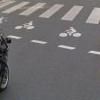Crosswalk: (10, 2, 96, 44)
